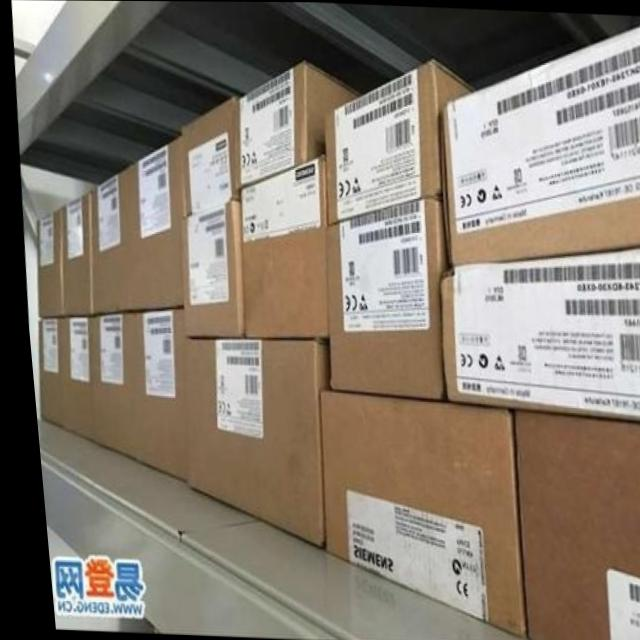box: (312, 390, 513, 636), (438, 26, 640, 264), (436, 246, 640, 421), (506, 409, 640, 640), (176, 339, 322, 548), (321, 58, 473, 224), (321, 196, 444, 400), (233, 59, 357, 188), (236, 153, 322, 338), (127, 135, 181, 312), (125, 309, 178, 478), (176, 200, 238, 338), (179, 97, 236, 216), (86, 311, 126, 456), (88, 167, 126, 314), (53, 316, 87, 439), (57, 191, 89, 314), (32, 206, 58, 317), (32, 318, 56, 425)
